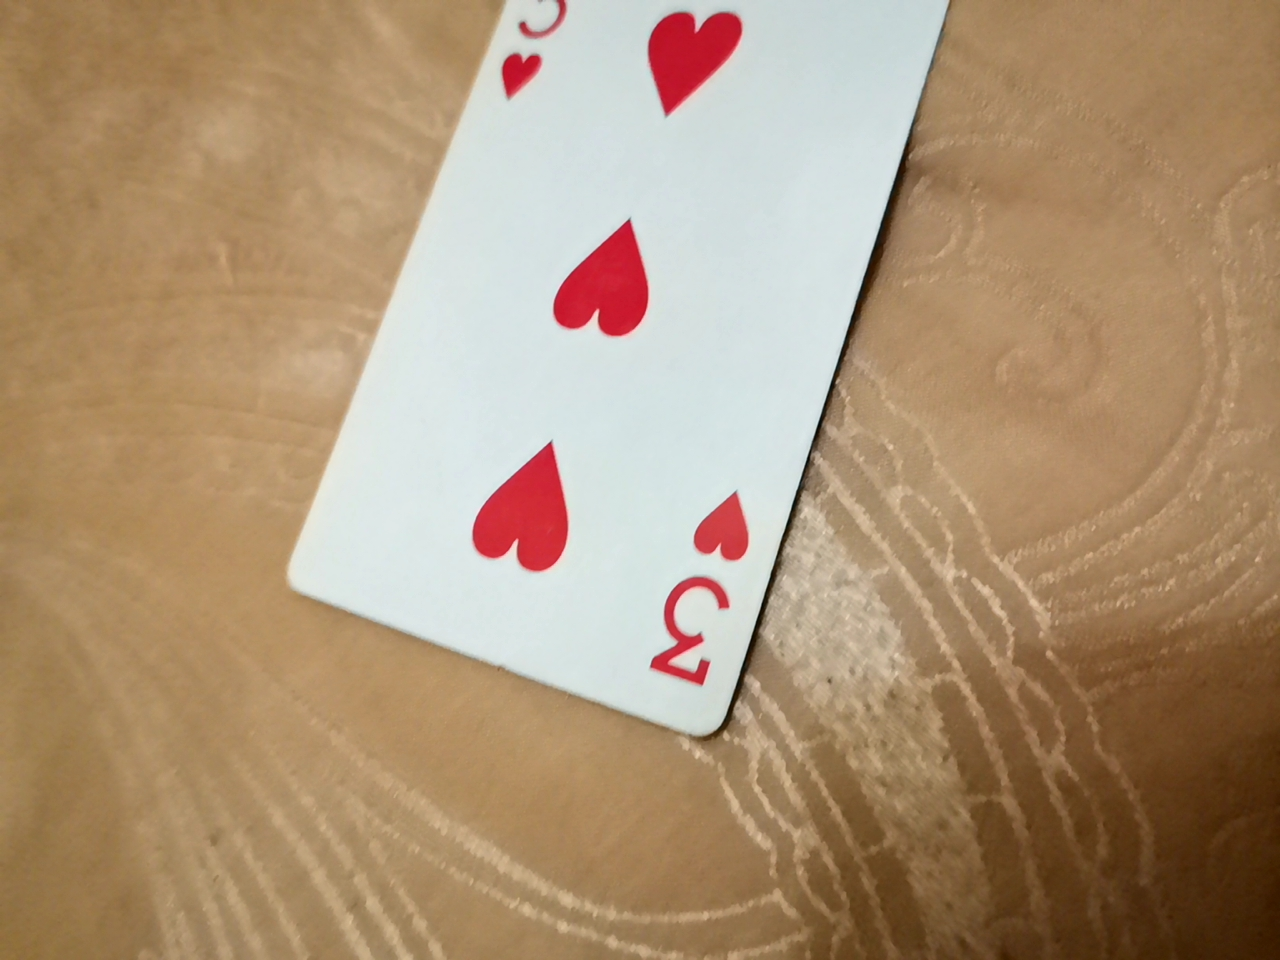hx 3: (298, 8, 967, 755)
